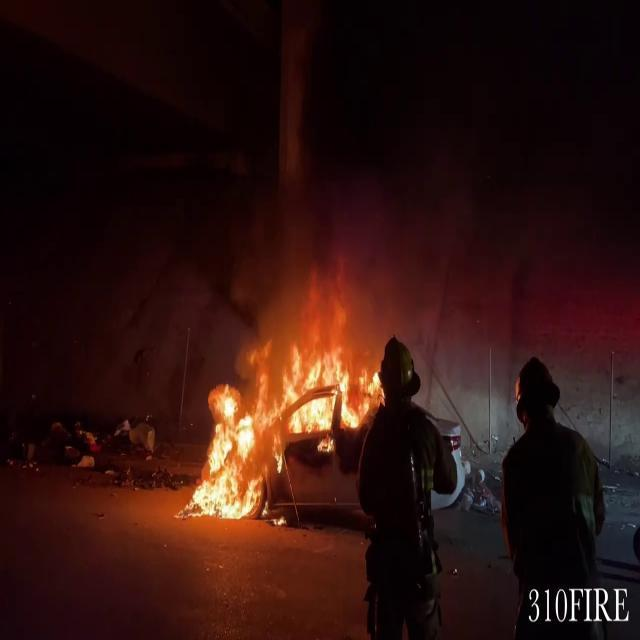Fire: (187, 339, 381, 532)
Smoke: (238, 164, 462, 370)
